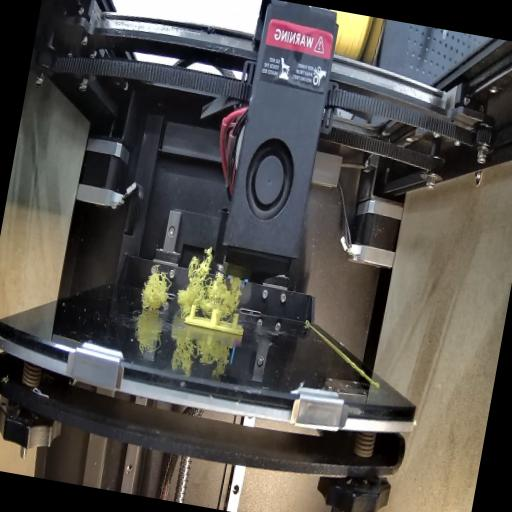spaghetti: (176, 250, 250, 320), (136, 264, 173, 312)
